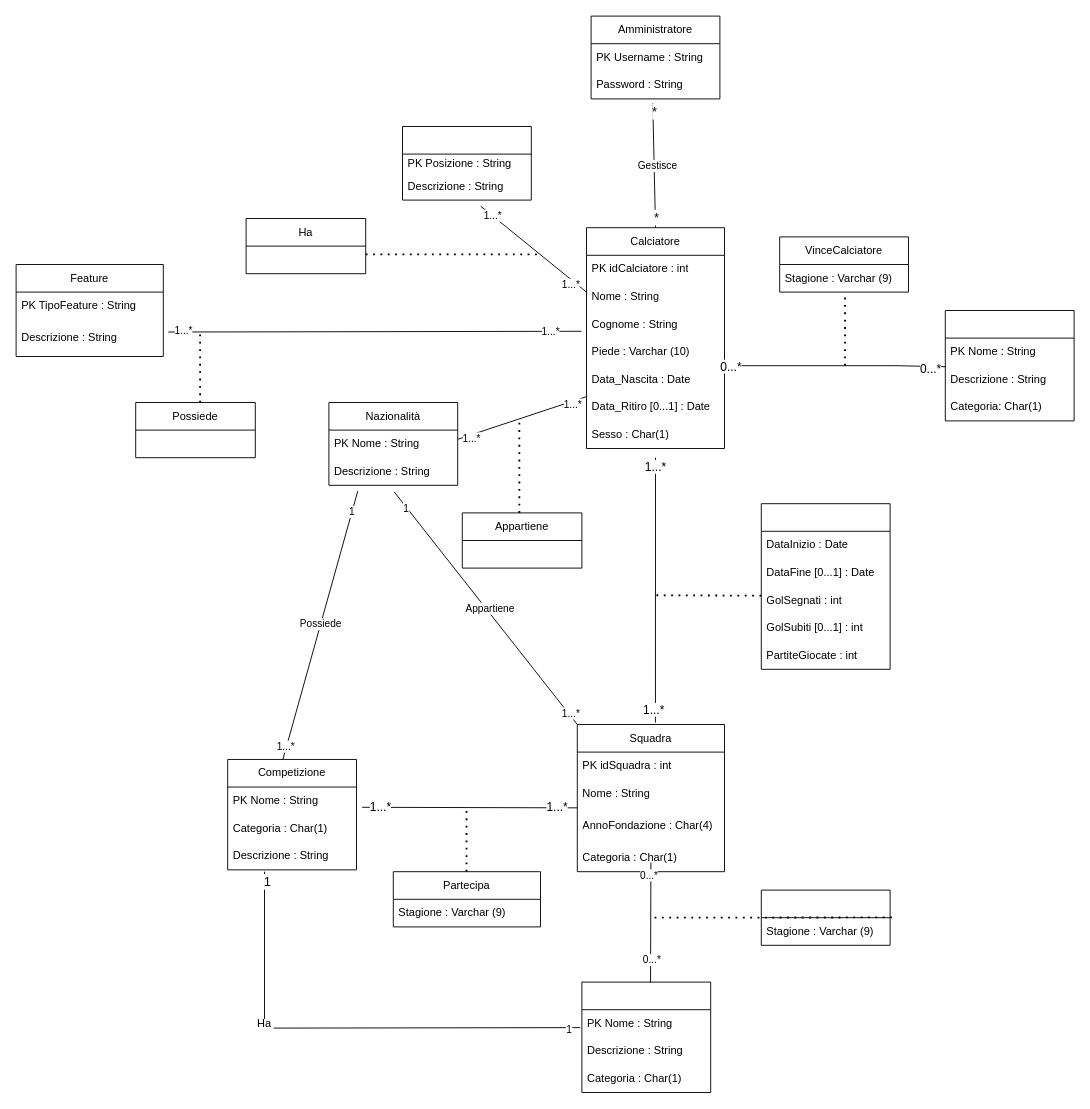
Image size: 1090x1109. Some labels were removed from this diagram. Each missing label, with the box of its shape:
Militanza: (760, 503, 890, 669)
Ruolo: (402, 126, 531, 200)
TrofeoCalciatore: (944, 310, 1074, 421)
TrofeoCompetizione: (581, 981, 711, 1092)
VinceSquadra: (760, 889, 890, 945)
